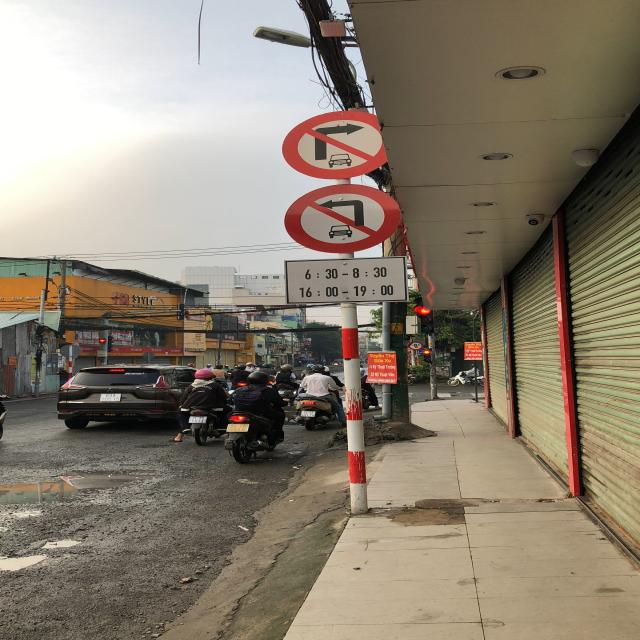Bien bao cam xe o to re phai: (274, 108, 396, 181)
Bien bao cam xe o to re trai: (280, 183, 410, 256)
